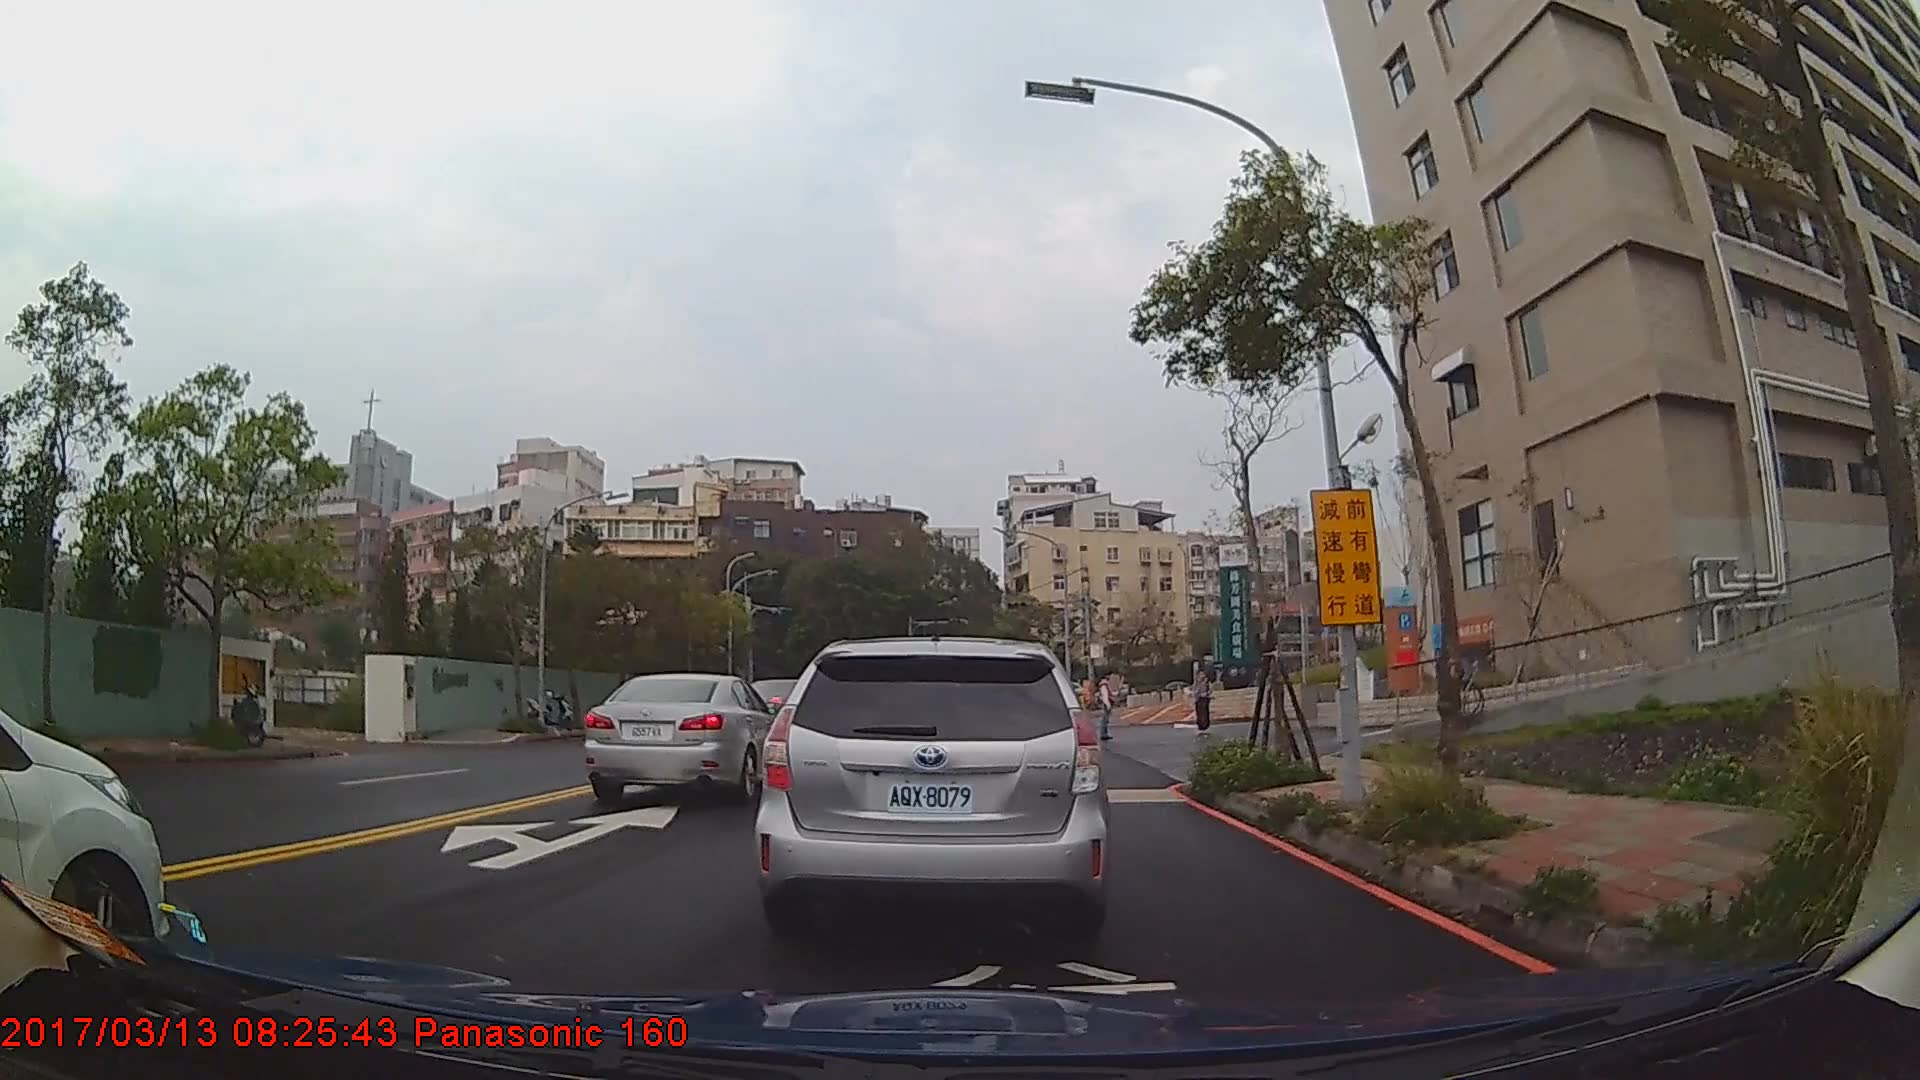pedestrian: (1096, 667, 1120, 743), (1193, 673, 1213, 736)
vehicle: (755, 637, 1112, 940), (0, 698, 168, 971), (580, 671, 785, 803)
